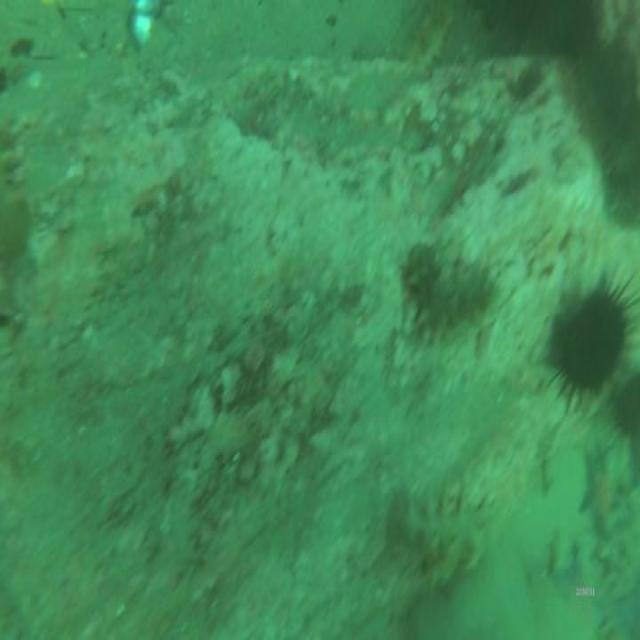echinus: (550, 270, 640, 419), (612, 360, 640, 444)
holothurian: (385, 471, 495, 581), (401, 238, 504, 344)
starfish: (579, 438, 623, 540)
